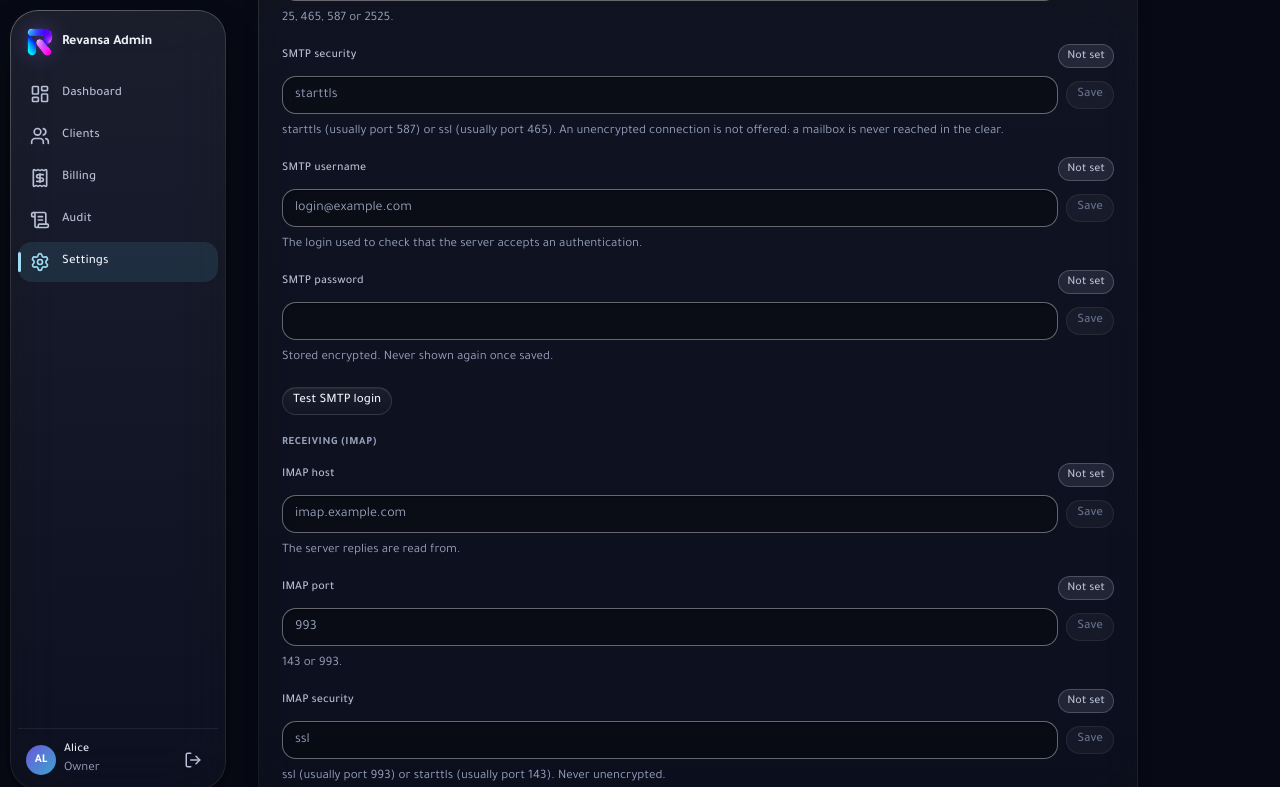
Scenario: Admin Email servers — logins › tests SMTP and IMAP with separate buttons and tells accepted from refused
(page scrolled)
What coordinates should you click on to do the following:
click the button "Test SMTP login"
I would click on:
 (337, 401)
Its box is [282,387,392,415].
(page scrolled)
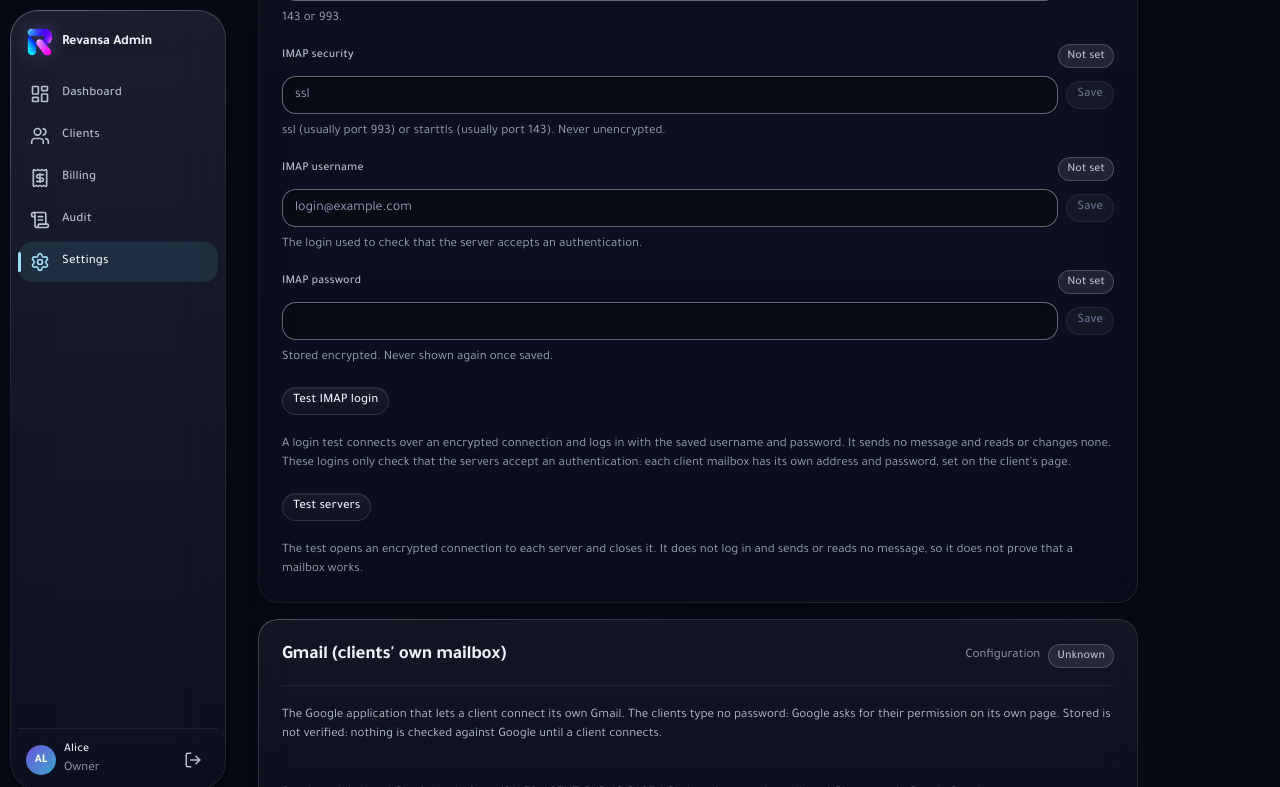
What coordinates should you click on to do the following:
click the button "Test IMAP login"
I would click on:
 (336, 401)
Its box is [282,387,389,415].
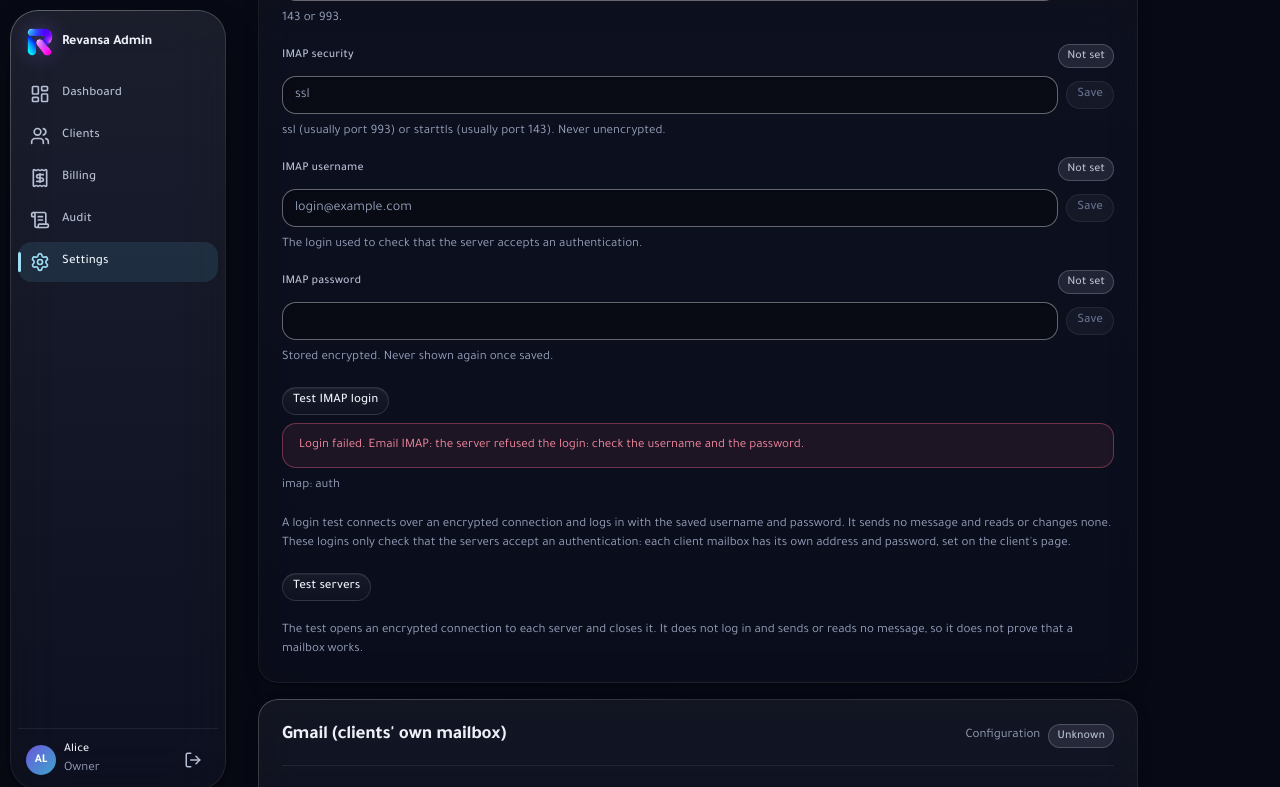
Result: the text "Login failed. Email IMAP: the server refused the login" is shown at [282,423,1114,468]
Result: the text "imap: auth" is shown at [282,479,340,492]
